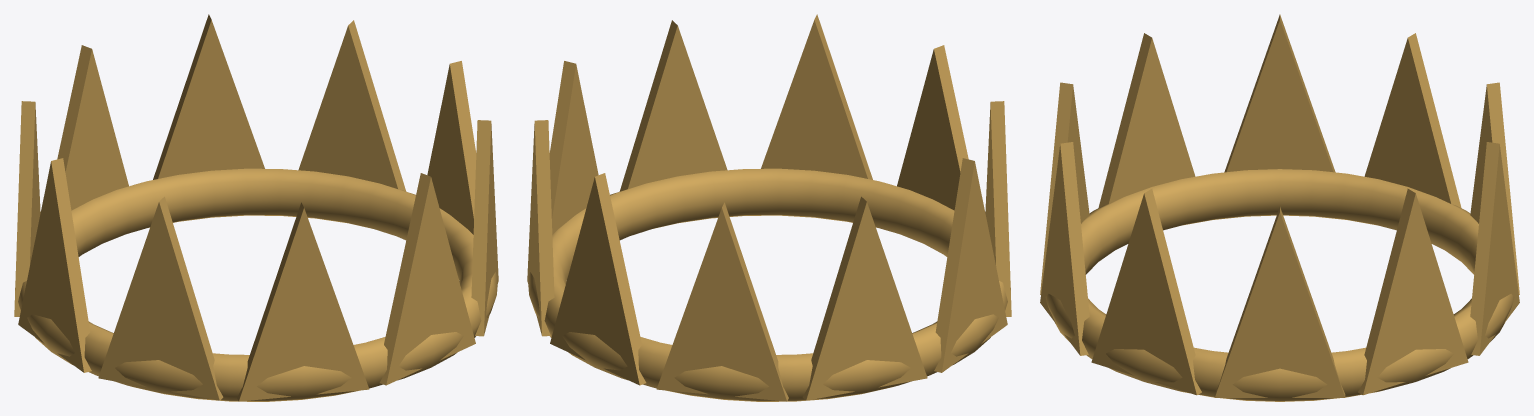
Rendered from wp-couronne-de-l-epiphanie.glb.
3 renders of one model, left to right at view 1: azimuth 30°, elevation 25°; view 2: azimuth 150°, elevation 25°; view 3: azimuth 270°, elevation 25°, orthographic.
Parts seen in each view (by area): view 1: wp-couronne-de-l-epiphanie; view 2: wp-couronne-de-l-epiphanie; view 3: wp-couronne-de-l-epiphanie.
Boxes of the visible parts, x1,y1,x2,y2 form: wp-couronne-de-l-epiphanie: (14,14,498,401); wp-couronne-de-l-epiphanie: (527,14,1011,401); wp-couronne-de-l-epiphanie: (1040,14,1519,401).
Bounding box in the file's own units: 0.2 × 0.09 × 0.2.
